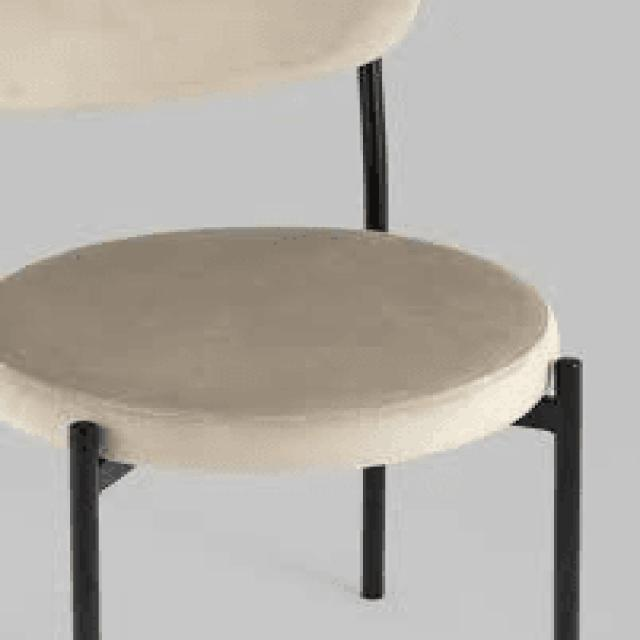chair: (0, 0, 589, 640), (0, 0, 573, 474)
